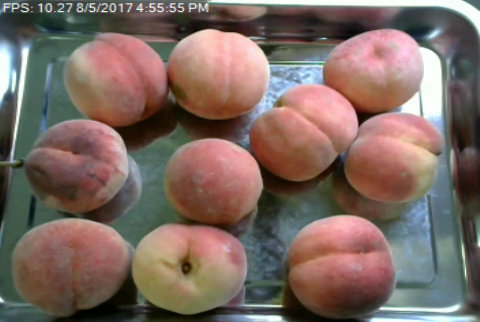Peach: (285, 214, 395, 319), (11, 217, 127, 315), (249, 84, 358, 181), (134, 223, 247, 316), (64, 32, 168, 128), (25, 118, 129, 213), (167, 26, 270, 120), (342, 111, 440, 203), (322, 25, 423, 114), (163, 138, 262, 225)
